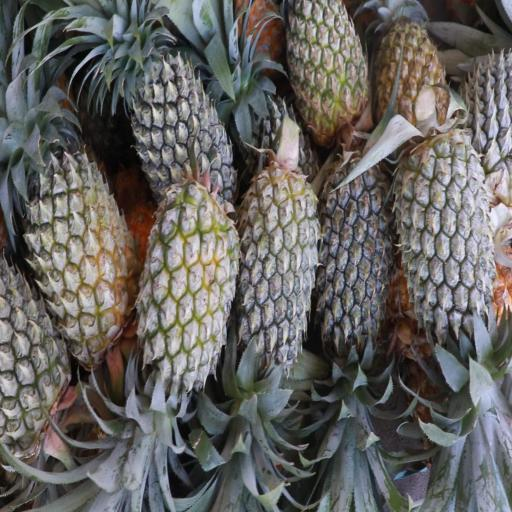------------------------------: (30, 150, 137, 358), (140, 186, 240, 408), (288, 0, 368, 136), (377, 9, 449, 142)
